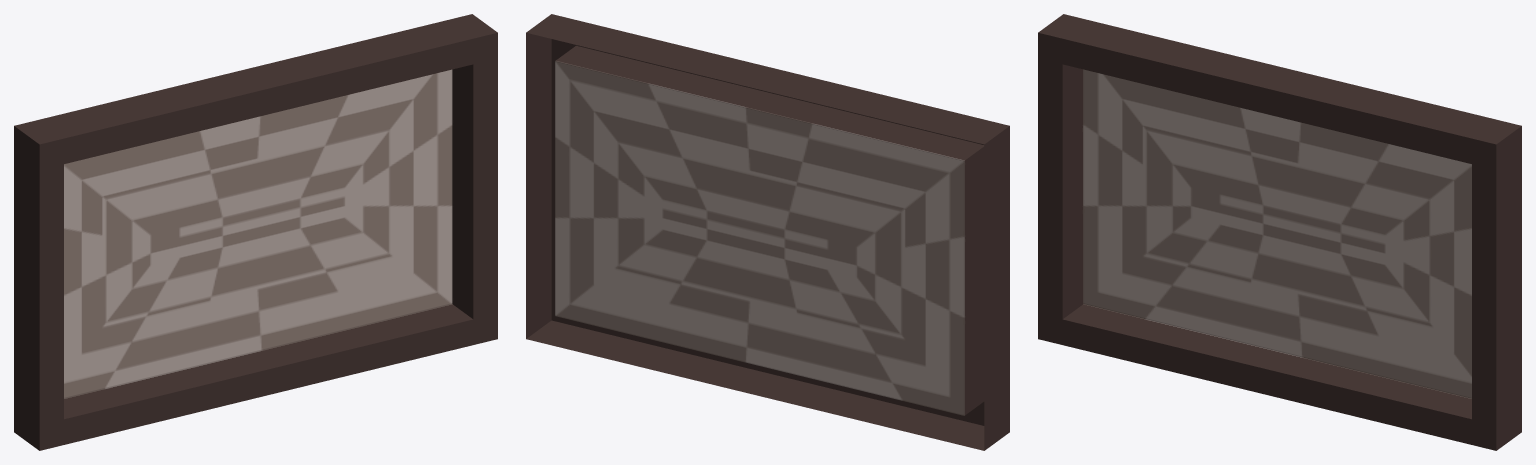
Rendered from tableau.FBX.
3 views of the same model, side by side, from view 1: azimuth 30°, elevation 25°; view 2: azimuth 150°, elevation 25°; view 3: azimuth 330°, elevation 25° (orthographic).
Visible parts, largest first — view 1: tableau; view 2: tableau; view 3: tableau.
Part boxes in pixels (box(x1,y1,x2,y2)): tableau: box(14, 14, 497, 450); tableau: box(526, 14, 1009, 450); tableau: box(1038, 14, 1521, 450).
Size of the model in its own units: 89.13 by 56.94 by 8.6.
1 material, 1 textured.
